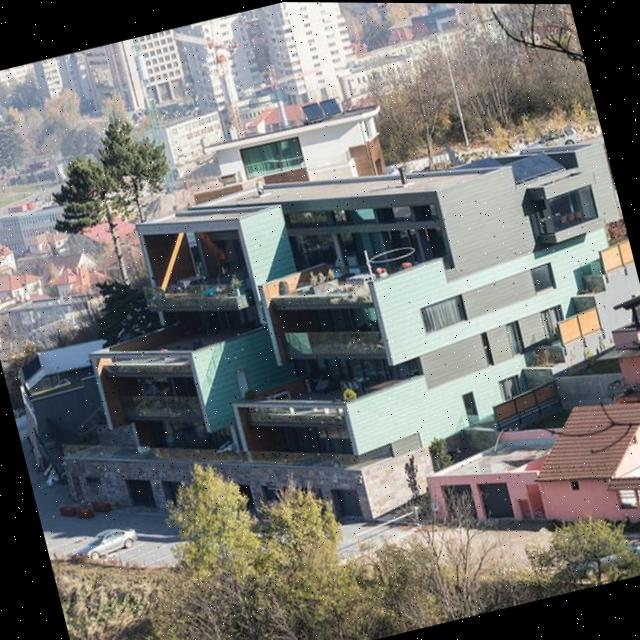building: (13, 98, 640, 564), (76, 1, 389, 161), (424, 375, 640, 580), (195, 94, 398, 246)
